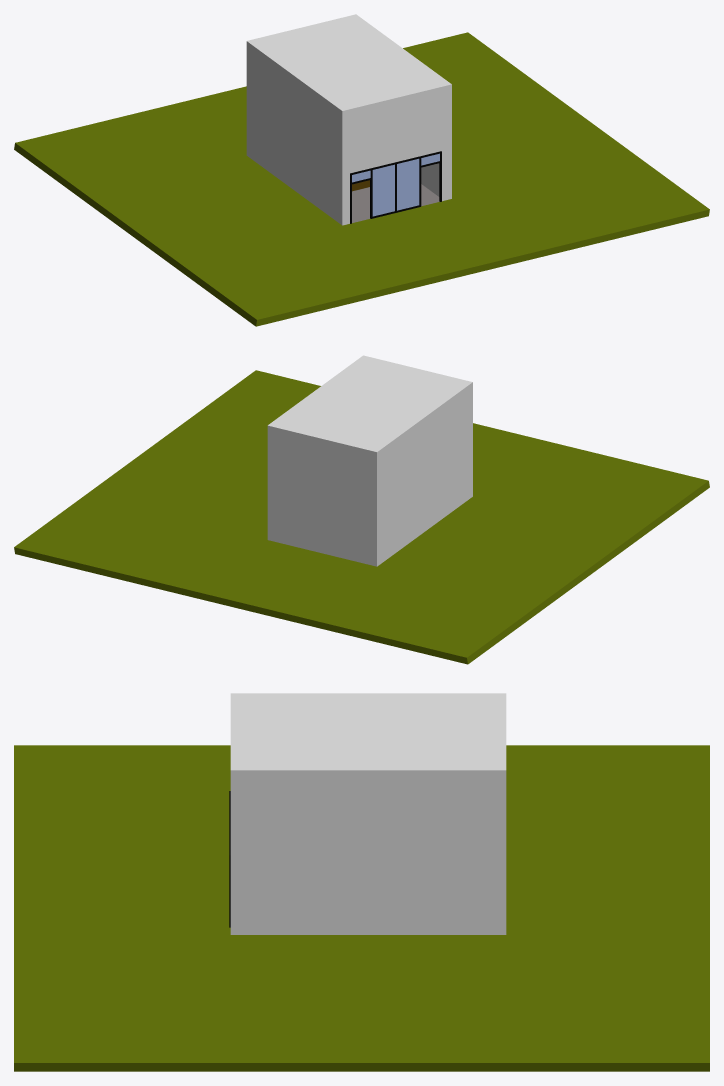
File: someFixes.fbx
3 views of the same model, one above another, from view 1: azimuth 30°, elevation 25°; view 2: azimuth 150°, elevation 25°; view 3: azimuth 270°, elevation 25° (orthographic). The views are drawn at different scales.
Visible parts, largest first — view 1: Building, glass(entrance), entranceMetal; view 2: Building; view 3: Building.
Part boxes in pixels (x1,y1,x2,y2): Building: [14, 14, 709, 326]; glass(entrance): [372, 158, 419, 216]; entranceMetal: [350, 151, 441, 223]; Building: [14, 355, 709, 664]; Building: [14, 693, 709, 1071].
Bounding box in the file's own units: 2900 × 739 × 2677.
